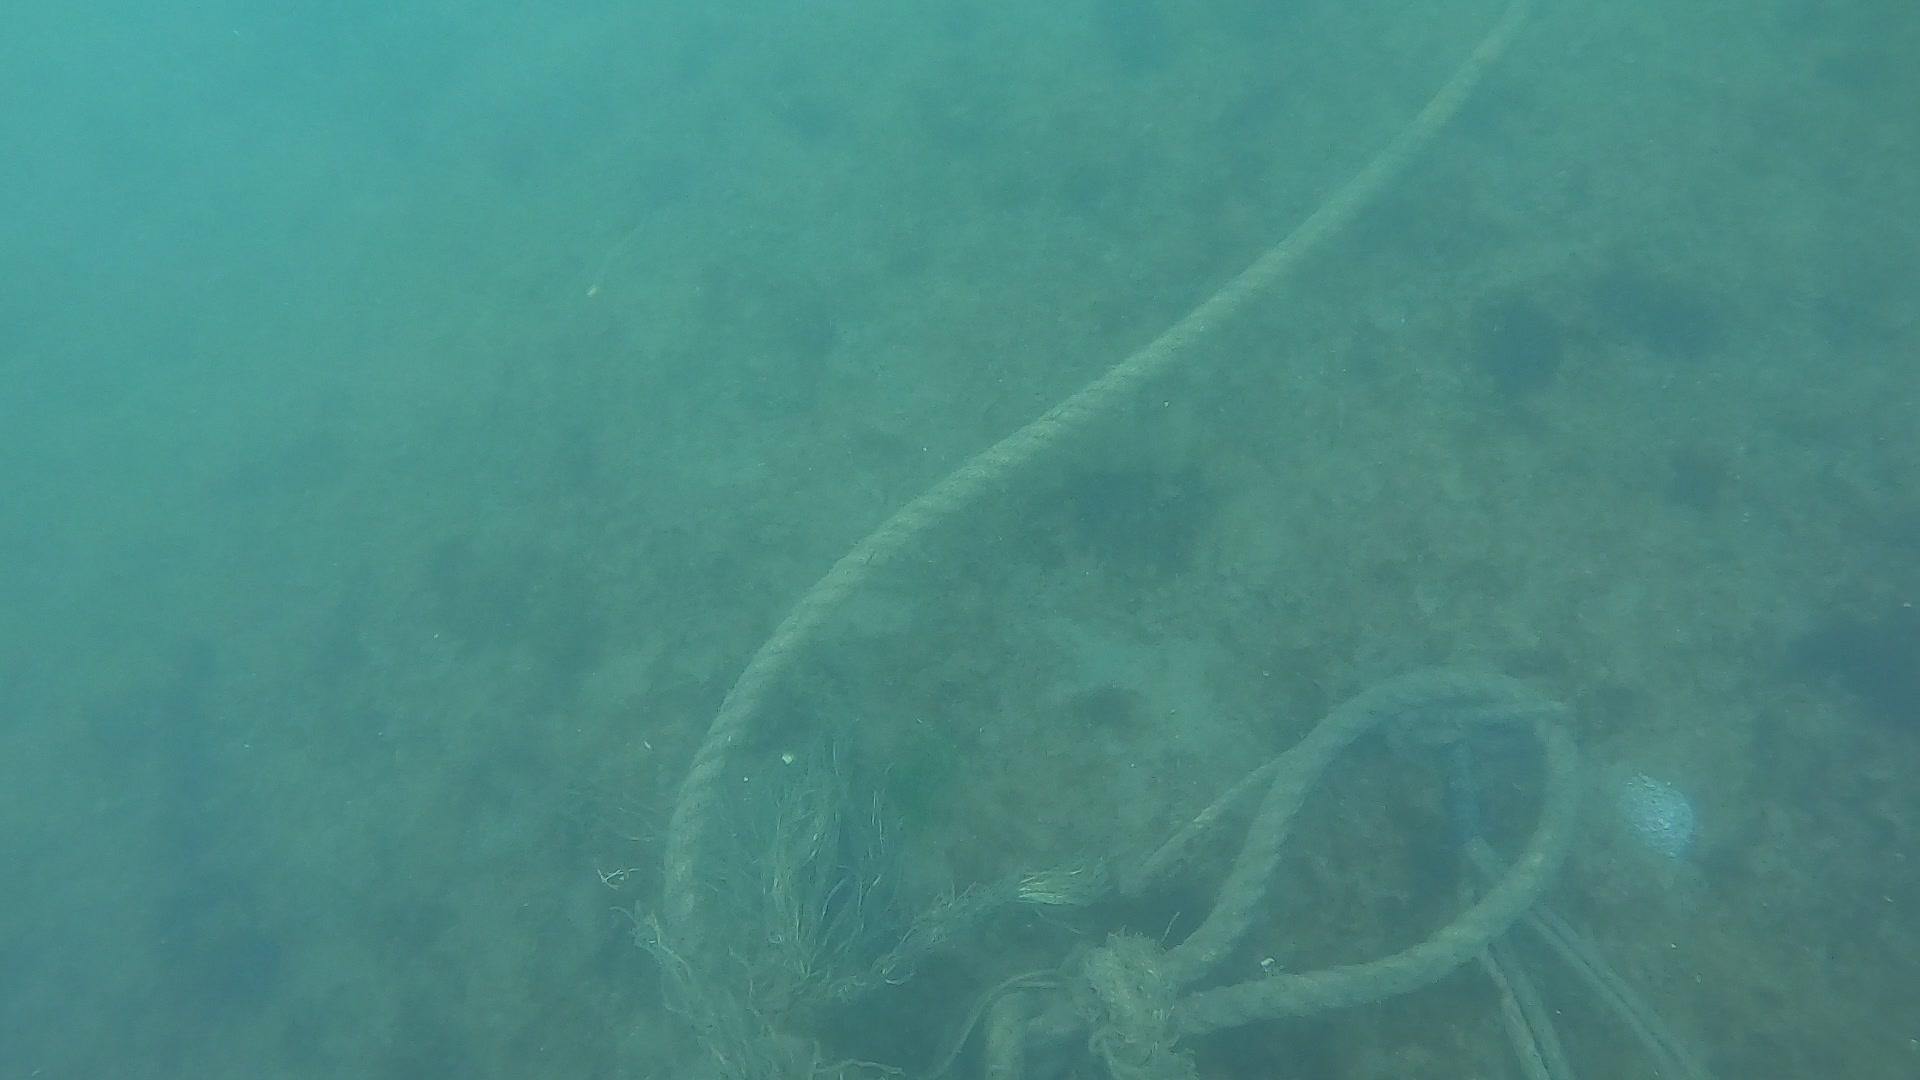bundle of ropes: (626, 0, 1586, 1080)
